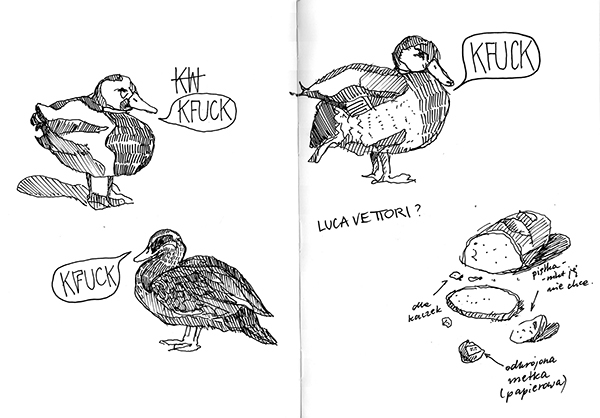bird: (297, 33, 458, 190), (134, 221, 283, 358), (29, 73, 162, 214)
